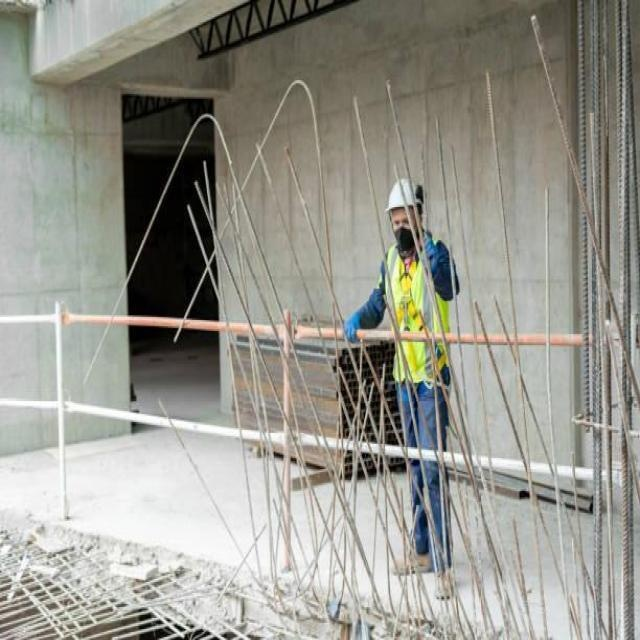Arnes_seguridad: (392, 232, 449, 406)
